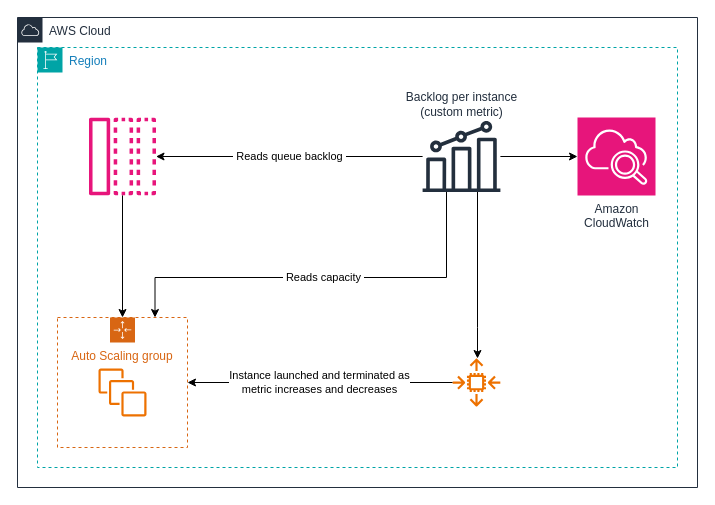
The diagram is 715 pixels wide and 505 high, and some of its shapes have lost their labels. Each missing label, with the centre of its shape:
"ASG - Target Tracking Scaling Policy" belongs at (476,382).
"Processing Servers" belongs at (122,392).
"SQS Queue Backlog" belongs at (122,156).
